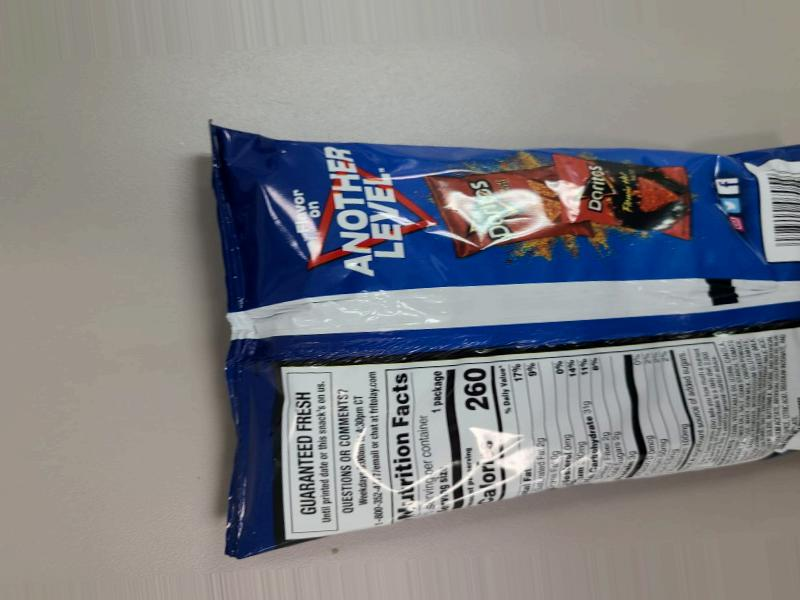doritos: (190, 173, 765, 600)
